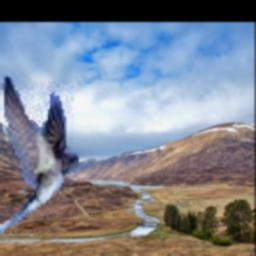Swallow: (0, 72, 79, 242)
